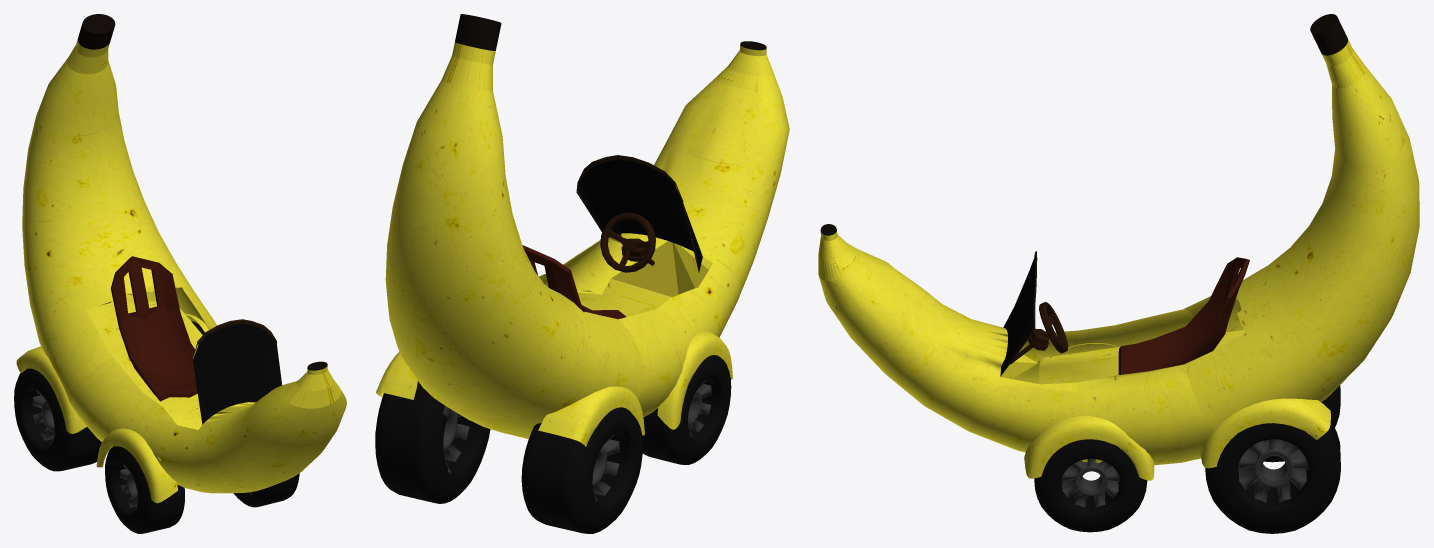
The model's file is Banana car.FBX.
3 renders of one model, left to right at view 1: azimuth 30°, elevation 25°; view 2: azimuth 150°, elevation 25°; view 3: azimuth 270°, elevation 25°, orthographic. The views are drawn at different scales.
Parts seen in each view (by area): view 1: Plane001, Line001, Cylinder012, Cylinder008, Tube001, Tube002, Cylinder009; view 2: Plane001, Cylinder012, Cylinder010, Cylinder008, Tube002, Tube001, Cylinder001, Line001, Tube004; view 3: Plane001, Cylinder010, Cylinder009, Line001, Tube004, Tube003, Cylinder001.
Part boxes in pixels (x1=…): Plane001: x1=22, y1=14, x2=346, y2=493; Line001: x1=110, y1=256, x2=197, y2=401; Cylinder012: x1=14, y1=368, x2=101, y2=471; Cylinder008: x1=105, y1=446, x2=184, y2=533; Tube001: x1=96, y1=428, x2=177, y2=503; Tube002: x1=16, y1=346, x2=86, y2=433; Cylinder009: x1=233, y1=473, x2=299, y2=507; Plane001: x1=385, y1=14, x2=789, y2=439; Cylinder012: x1=521, y1=407, x2=642, y2=533; Cylinder010: x1=375, y1=381, x2=490, y2=503; Cylinder008: x1=642, y1=355, x2=731, y2=464; Tube002: x1=538, y1=386, x2=644, y2=446; Tube001: x1=657, y1=331, x2=732, y2=429; Cylinder001: x1=600, y1=212, x2=655, y2=272; Line001: x1=522, y1=245, x2=626, y2=319; Tube004: x1=376, y1=351, x2=417, y2=399; Plane001: x1=818, y1=14, x2=1419, y2=465; Cylinder010: x1=1205, y1=420, x2=1340, y2=533; Cylinder009: x1=1034, y1=439, x2=1147, y2=532; Line001: x1=1118, y1=257, x2=1249, y2=374; Tube004: x1=1200, y1=398, x2=1330, y2=468; Tube003: x1=1024, y1=416, x2=1154, y2=480; Cylinder001: x1=1039, y1=302, x2=1068, y2=353.
Bounding box in the file's own units: 124 × 337 × 293.
